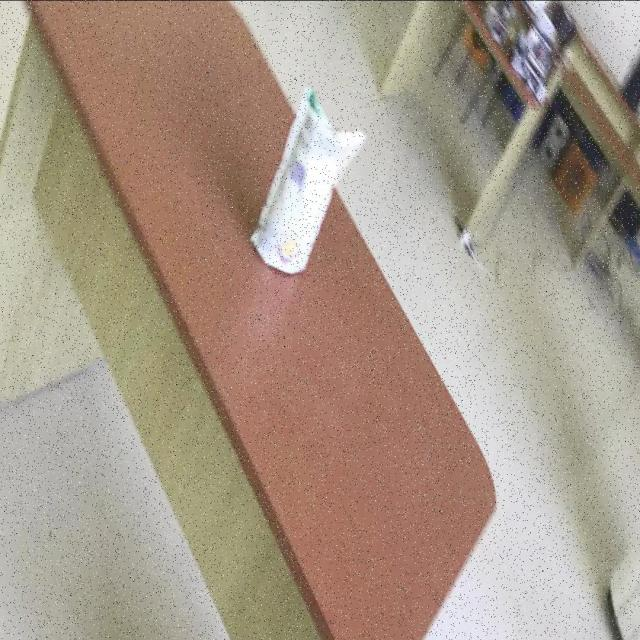CornFlakes: (248, 84, 367, 274)
